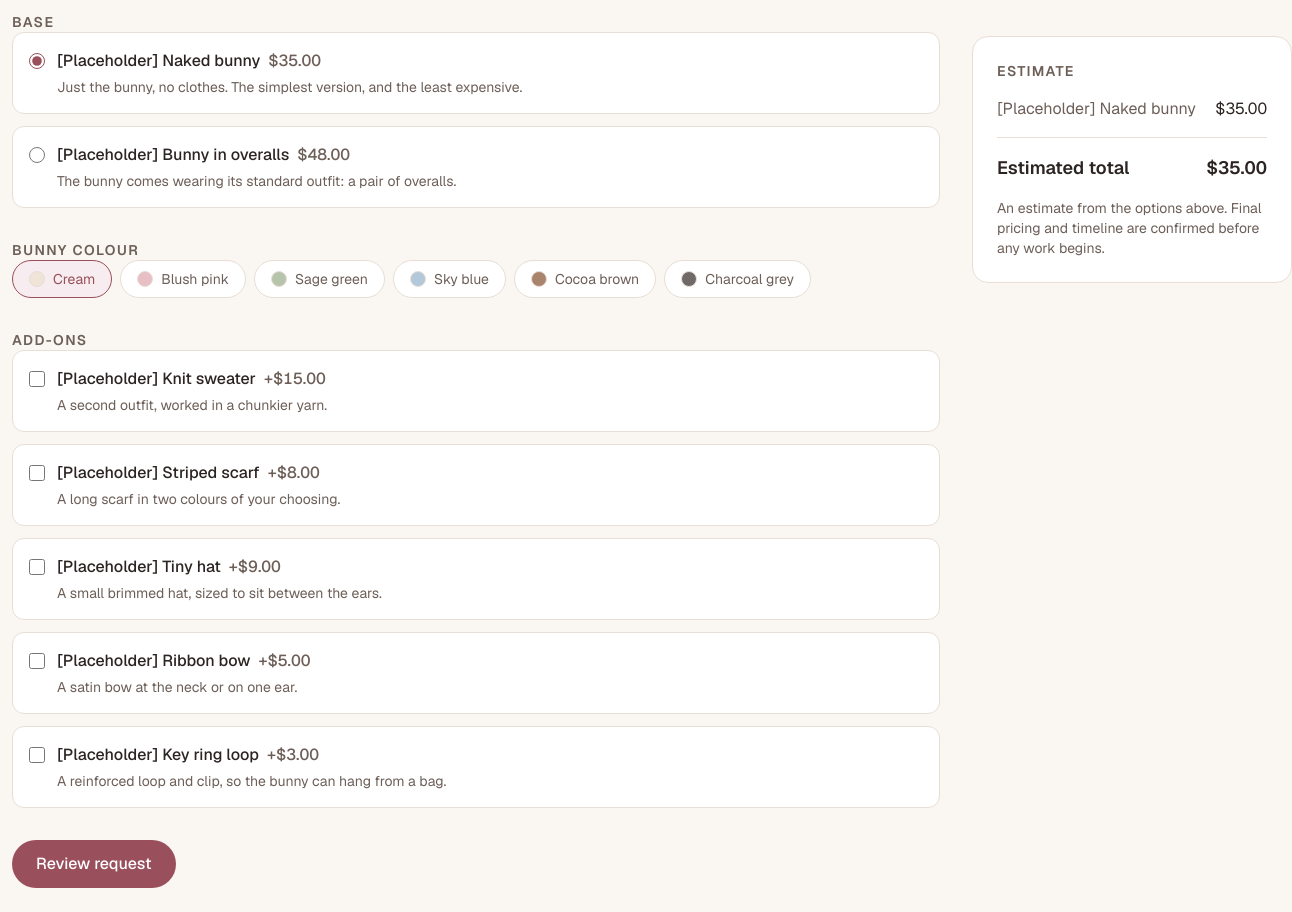
Scenario: BunnyBuilder › [BUNNY-10] changing an option withdraws the previous request
This screenshot has width=1292, height=912.
Click the button "Review request": click(94, 864) [12, 840, 176, 888]
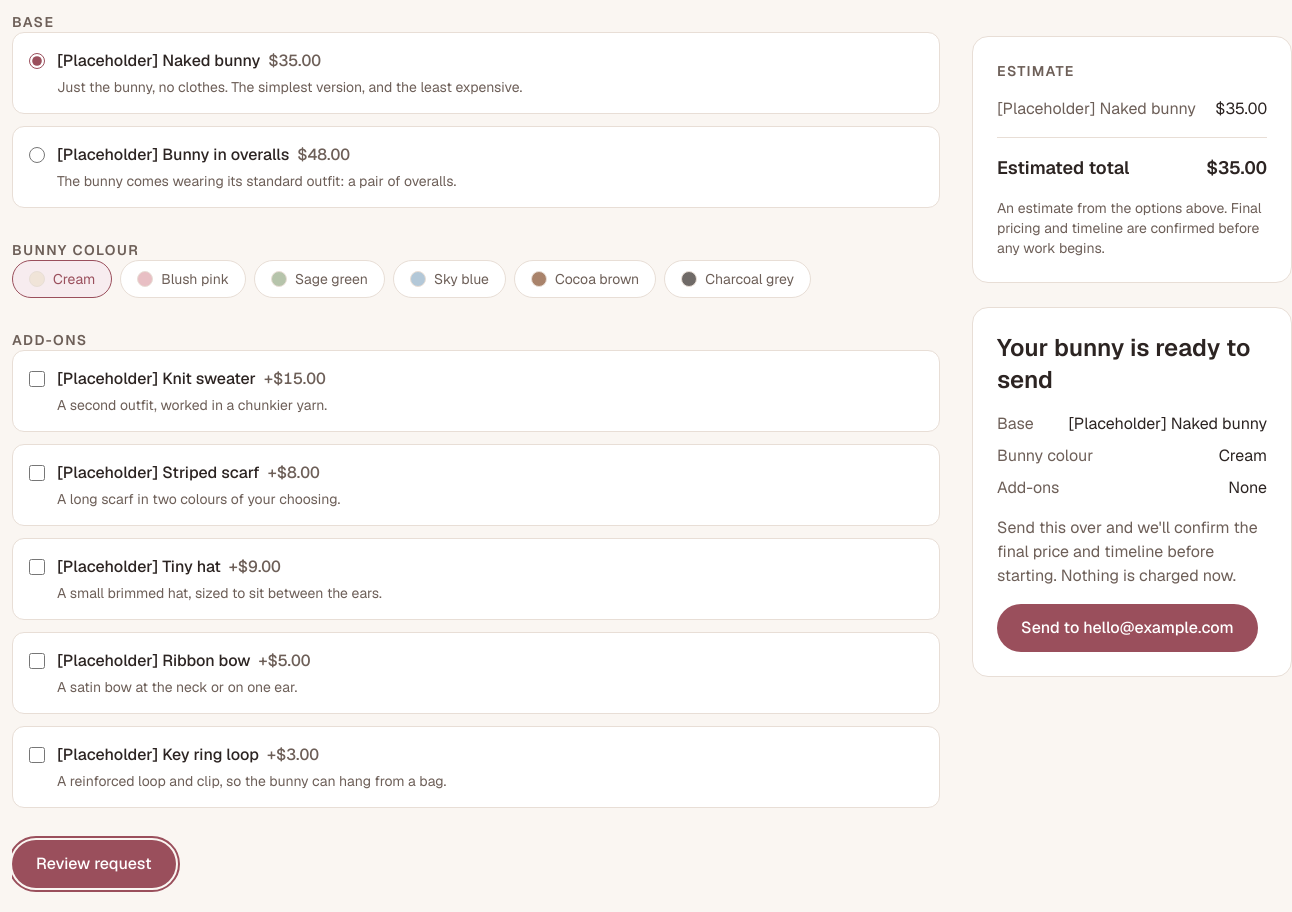
Expected: the element "ready to send" is shown, [972, 307, 1291, 677]
Click the radio button labelled "Blush pink": click(183, 279) [120, 260, 246, 298]
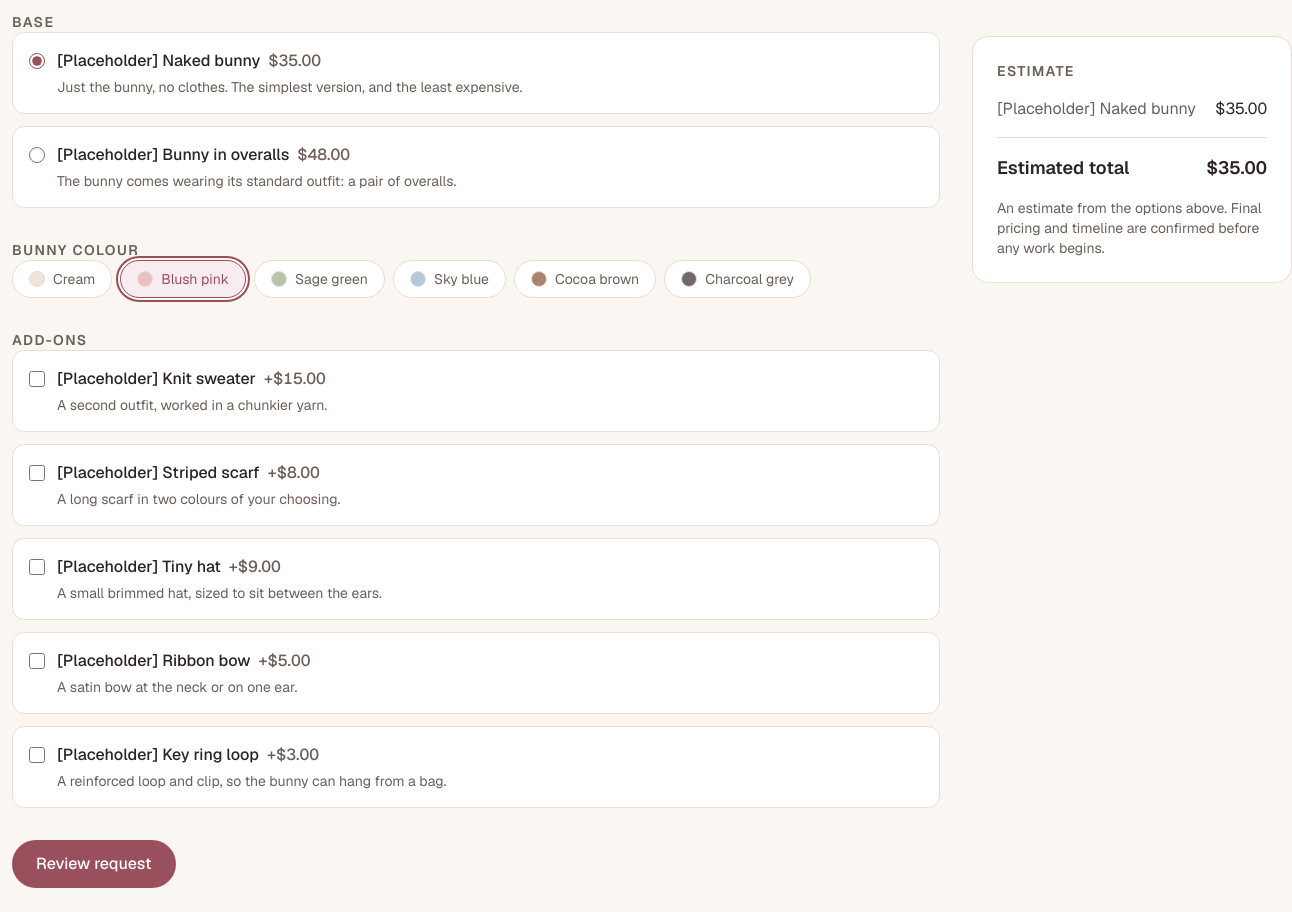
Expected: the heading "ready to send" is gone
